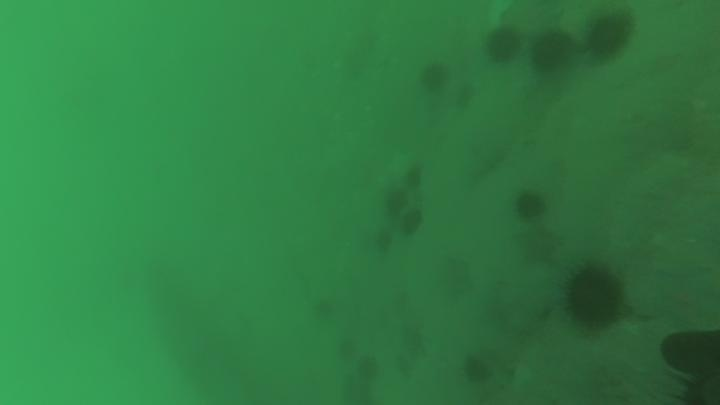echinus: (559, 259, 630, 333), (583, 10, 637, 63), (528, 28, 574, 75), (482, 24, 523, 66), (511, 188, 549, 223), (417, 59, 452, 96), (460, 353, 494, 386), (381, 186, 411, 217), (397, 207, 426, 239), (354, 354, 383, 383), (309, 295, 339, 322), (370, 226, 396, 256), (334, 335, 361, 363), (400, 162, 426, 191)
starfish: (516, 225, 564, 267)
